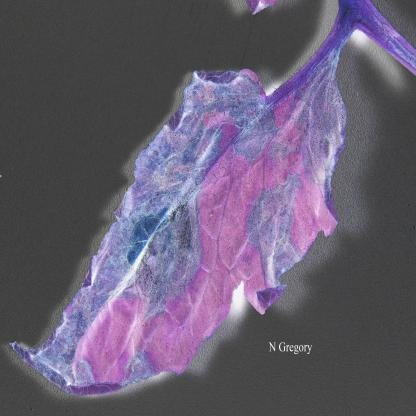tomato leaf late blight: (13, 31, 341, 395)
